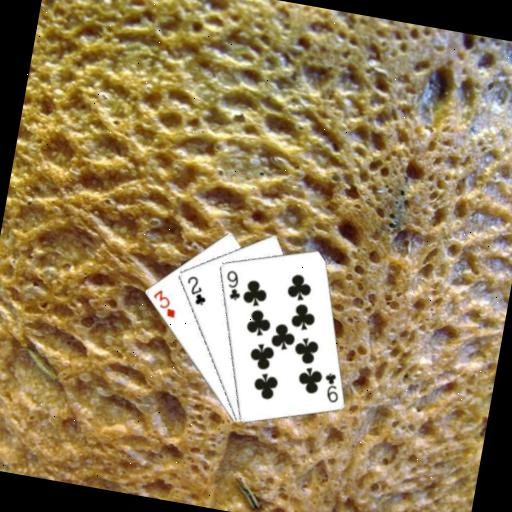2C: (179, 271, 211, 307)
3D: (145, 285, 180, 320)
9C: (219, 265, 245, 302), (317, 368, 343, 405)
